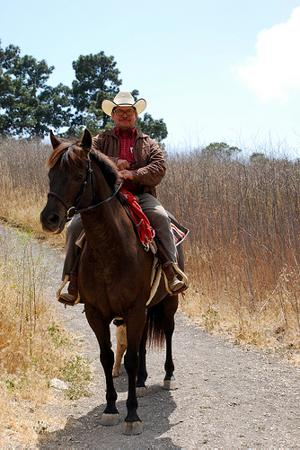person: (59, 89, 185, 305)
